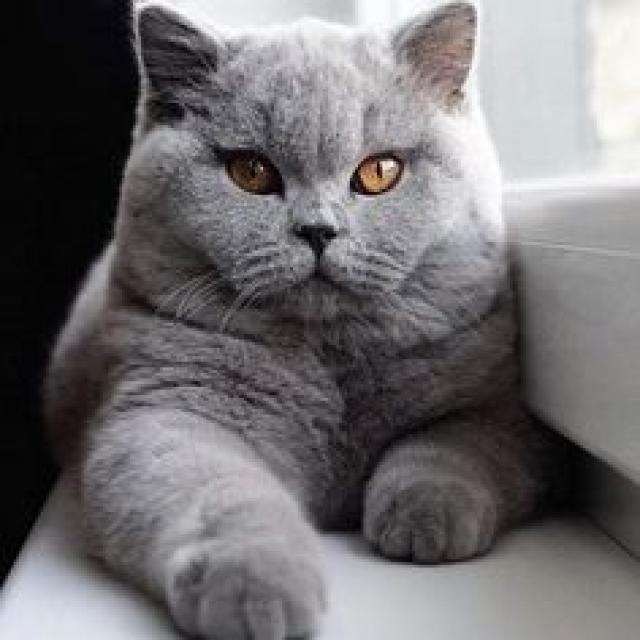da khoe manh: (125, 328, 286, 577)
